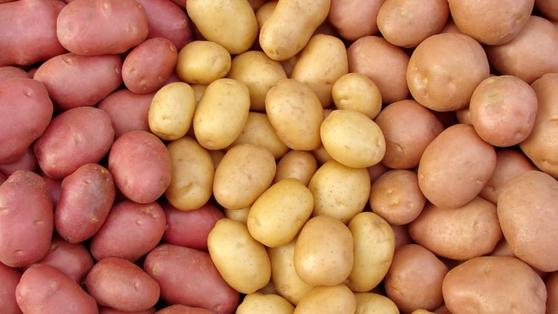potato: (203, 218, 272, 293), (265, 77, 326, 154), (247, 178, 312, 247), (296, 214, 356, 287), (320, 107, 387, 171), (195, 78, 251, 148), (154, 83, 198, 142)
